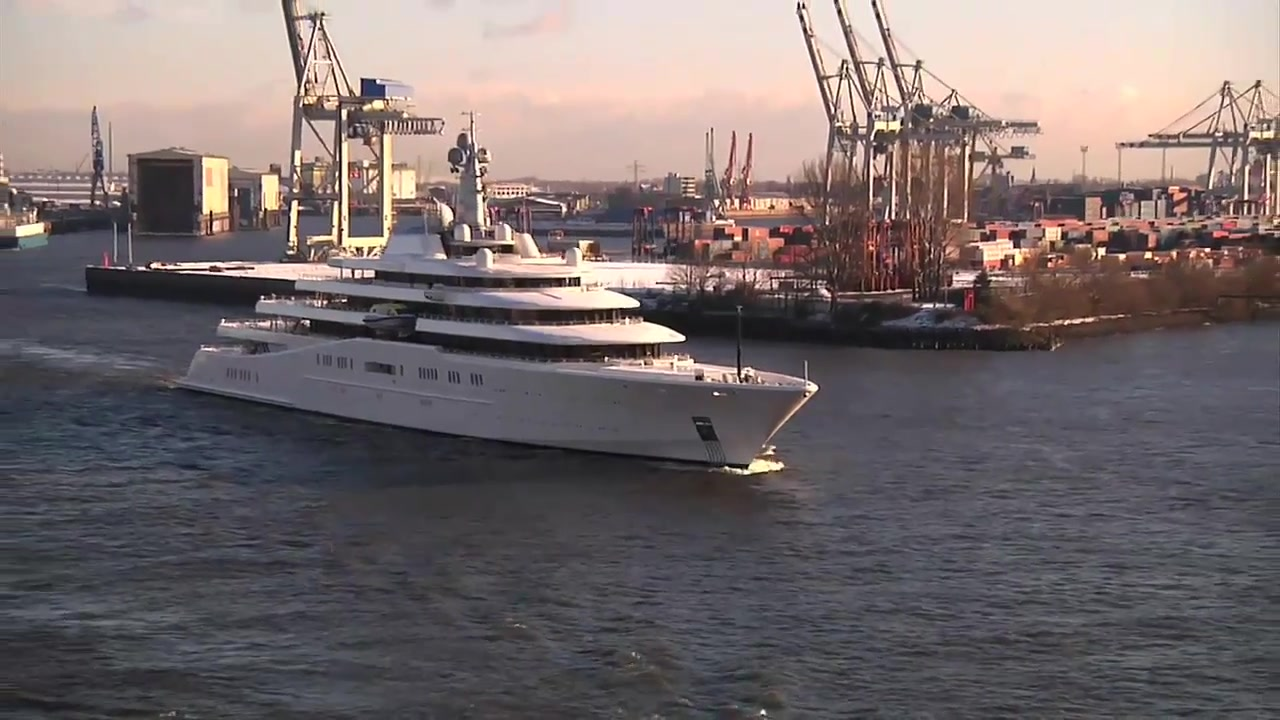boat: (165, 110, 821, 471)
